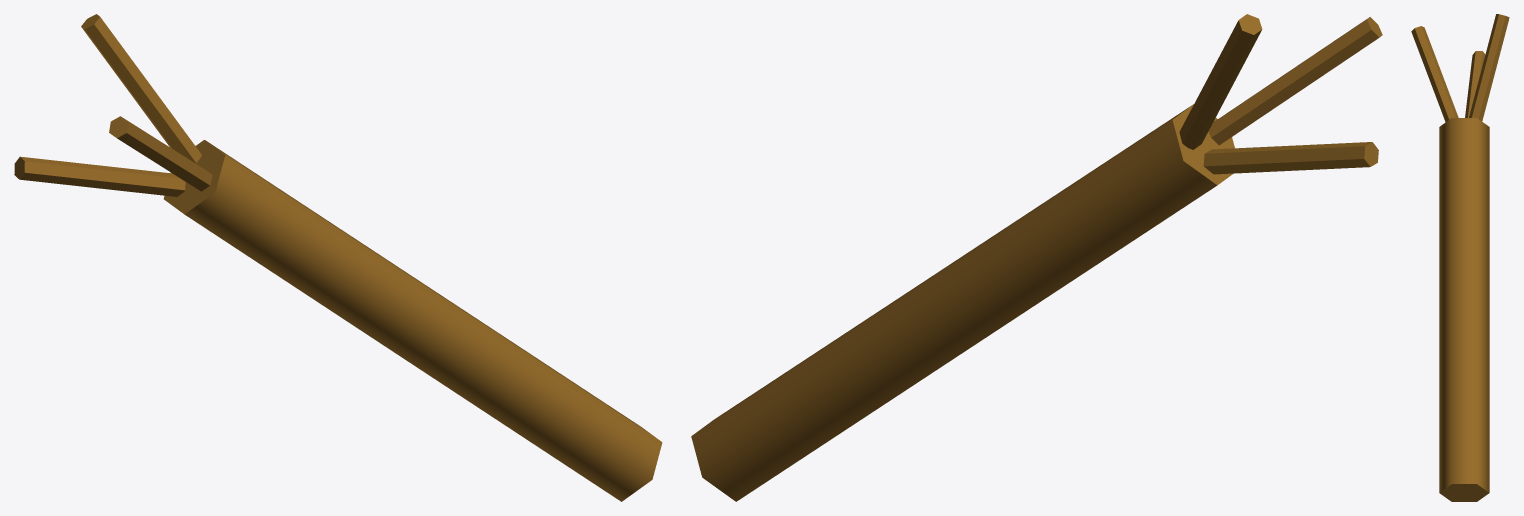
The model's file is Tree_Right_Arm.obj.
3 renders of one model, left to right at view 1: azimuth 30°, elevation 25°; view 2: azimuth 150°, elevation 25°; view 3: azimuth 270°, elevation 25°, orthographic. The views are drawn at different scales.
Parts seen in each view (by area): view 1: Cylinder009, Cylinder013, Cylinder015, Cylinder014; view 2: Cylinder009, Cylinder014, Cylinder013, Cylinder015; view 3: Cylinder009, Cylinder015, Cylinder014, Cylinder013.
Boxes of the visible parts, <box> form: Cylinder009: <box>163,140,662,501</box>; Cylinder013: <box>14,156,185,196</box>; Cylinder015: <box>81,14,201,163</box>; Cylinder014: <box>109,116,212,191</box>; Cylinder009: <box>691,104,1234,501</box>; Cylinder014: <box>1208,17,1382,145</box>; Cylinder013: <box>1203,142,1378,174</box>; Cylinder015: <box>1179,14,1262,149</box>; Cylinder009: <box>1439,118,1489,501</box>; Cylinder015: <box>1469,14,1509,121</box>; Cylinder014: <box>1411,26,1458,122</box>; Cylinder013: <box>1465,51,1485,117</box>.
Bounding box in the file's own units: 2.96 × 2.61 × 0.6724.
